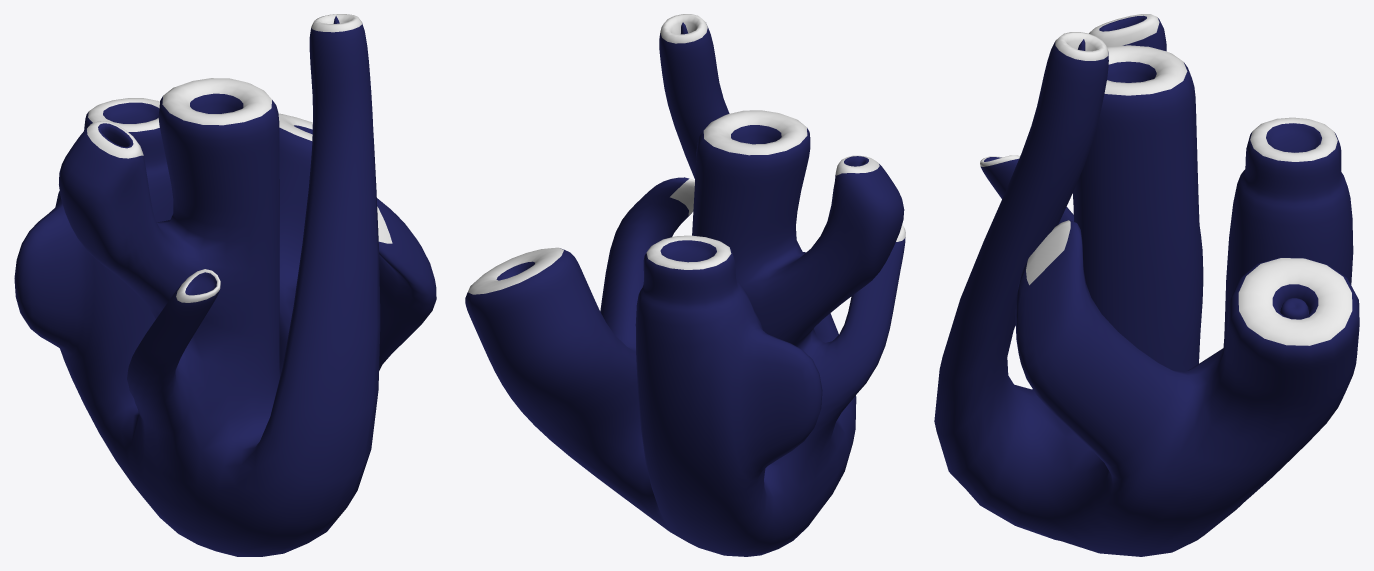
File: Floracoral.fbx
3 renders of one model, left to right at view 1: azimuth 30°, elevation 25°; view 2: azimuth 150°, elevation 25°; view 3: azimuth 270°, elevation 25°, orthographic. The views are drawn at different scales.
Parts seen in each view (by area): view 1: Cube; view 2: Cube; view 3: Cube.
Part boxes in pixels (box(x1,y1,x2,y2)): Cube: box(14, 14, 436, 556); Cube: box(465, 14, 905, 556); Cube: box(934, 14, 1359, 556).
Size of the model in its own units: 386 by 515 by 361.
